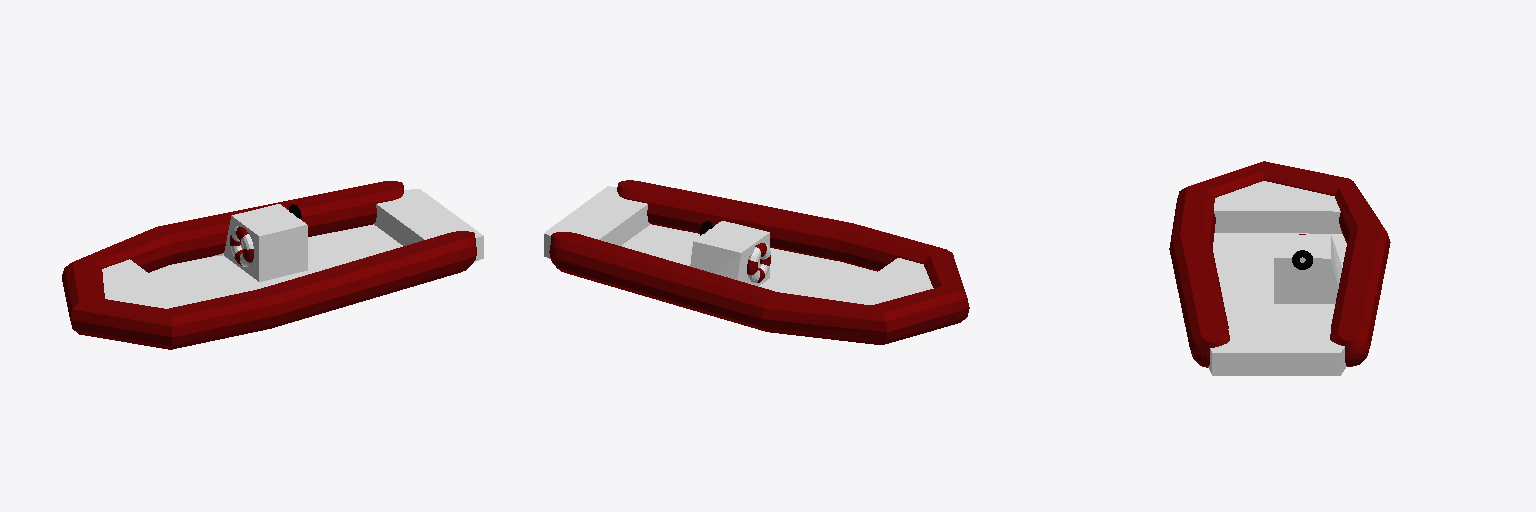
The model's file is Boat_1374.obj.
The picture shows the model from 3 angles: view 1: azimuth 30°, elevation 25°; view 2: azimuth 150°, elevation 25°; view 3: azimuth 270°, elevation 25°; orthographic projection.
Visible parts, largest first — view 1: Box001; view 2: Box001; view 3: Box001.
Part boxes in pixels (x1,y1,x2,y2): Box001: (62, 181, 483, 349); Box001: (544, 180, 969, 344); Box001: (1169, 161, 1390, 375).
Size of the model in its own units: 141 by 21.02 by 69.56.